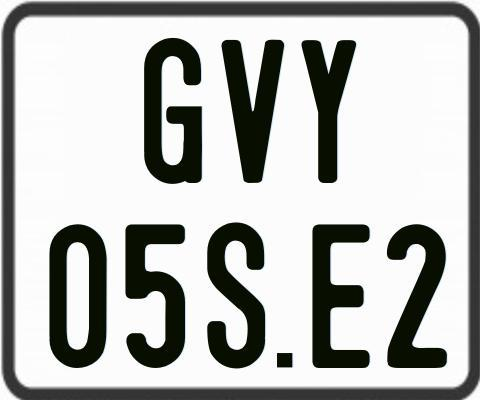0: (46, 224, 109, 371)
2: (384, 221, 450, 367)
5: (125, 222, 191, 372)
E: (311, 223, 371, 373)
G: (144, 36, 203, 186)
S: (207, 221, 266, 370)
V: (221, 39, 287, 187)
Y: (302, 40, 356, 186)
